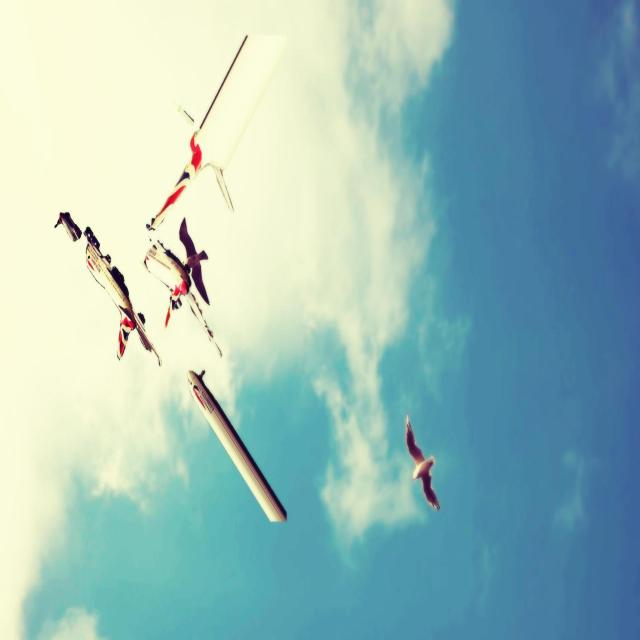airplane: (146, 32, 286, 232), (54, 210, 161, 367), (187, 368, 287, 523), (143, 243, 223, 357)
